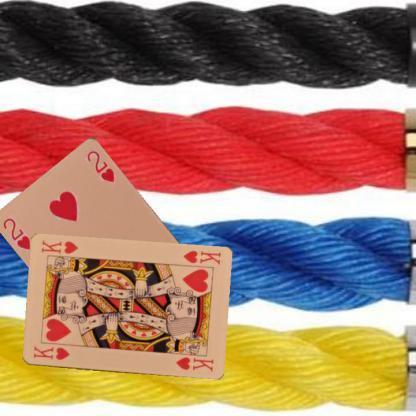2h: (0, 214, 32, 252)
Kh: (180, 248, 222, 266), (30, 344, 71, 362)
